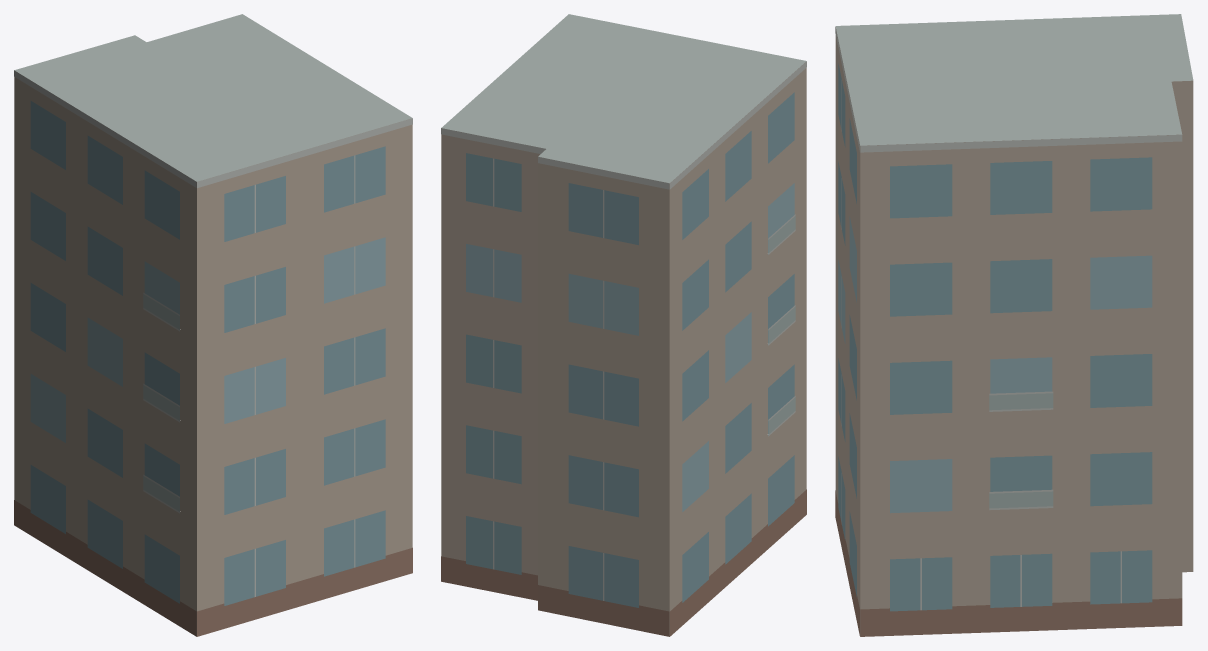
The model's file is survey-upis-32725706.glb.
3 views of the same model, side by side, from view 1: azimuth 30°, elevation 25°; view 2: azimuth 150°, elevation 25°; view 3: azimuth 270°, elevation 25° (orthographic). The views are drawn at different scales.
Parts seen in each view (by area): view 1: survey-upis-32725706.tmp; view 2: survey-upis-32725706.tmp; view 3: survey-upis-32725706.tmp.
Boxes of the visible parts, box(x1,y1,x2,y2) form: survey-upis-32725706.tmp: box(14, 14, 412, 636); survey-upis-32725706.tmp: box(441, 14, 806, 636); survey-upis-32725706.tmp: box(835, 14, 1193, 636).
Size of the model in its own units: 9.96 by 17.3 by 11.44.
